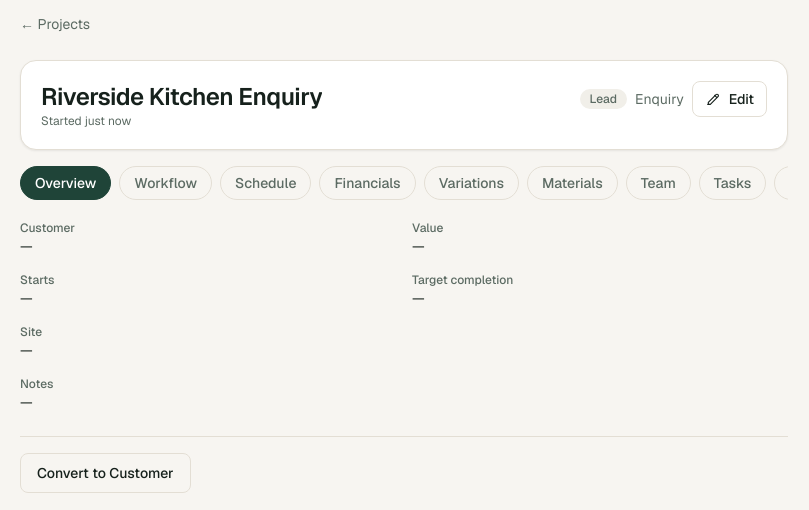
Test: ProjectDetailPage — site visit scheduling (Sprint 022) › lets_owner_or_staff_schedule_a_site_visit
The width and height of the screenshot is (809, 510).
Click the tab "Schedule" at (266, 183), box [220,166,312,200]
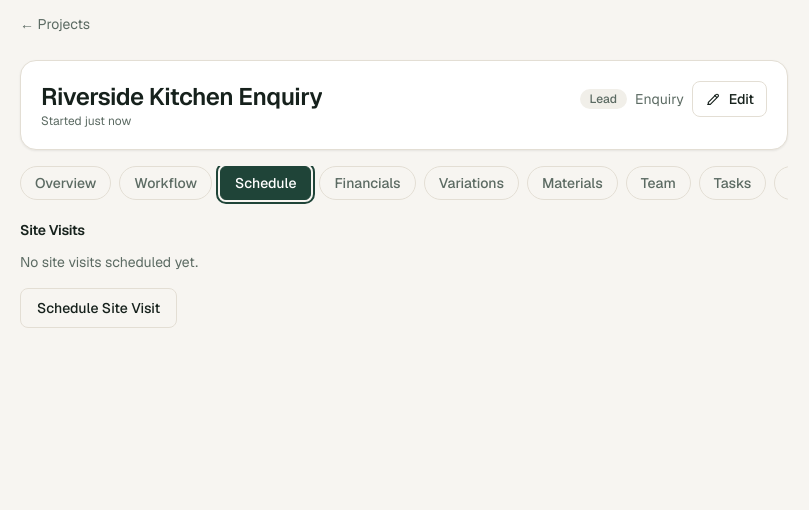
Click the button "Schedule Site Visit" at (99, 308), box [20,288,177,328]
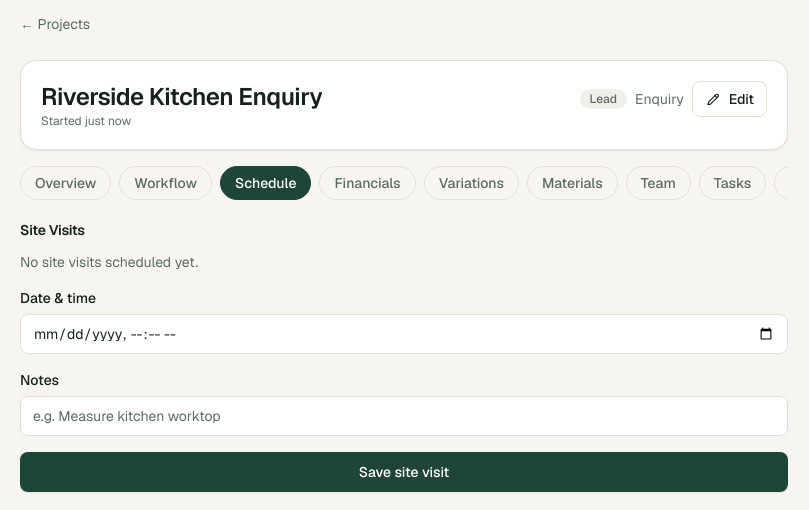
Type "2030-01-01T10:00" into the field labelled "Date & time" at (404, 334), box [20,314,788,354]
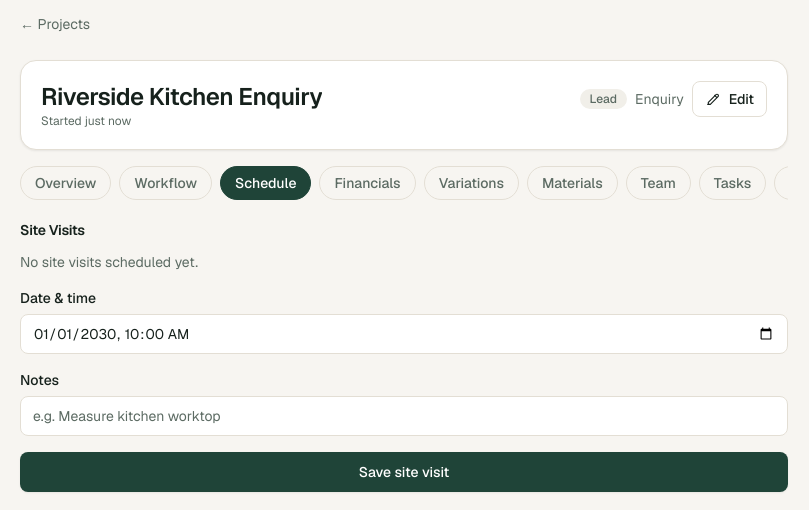
Type "Measure kitchen worktop" into the field labelled "Notes" at (404, 416), box [20,396,788,436]
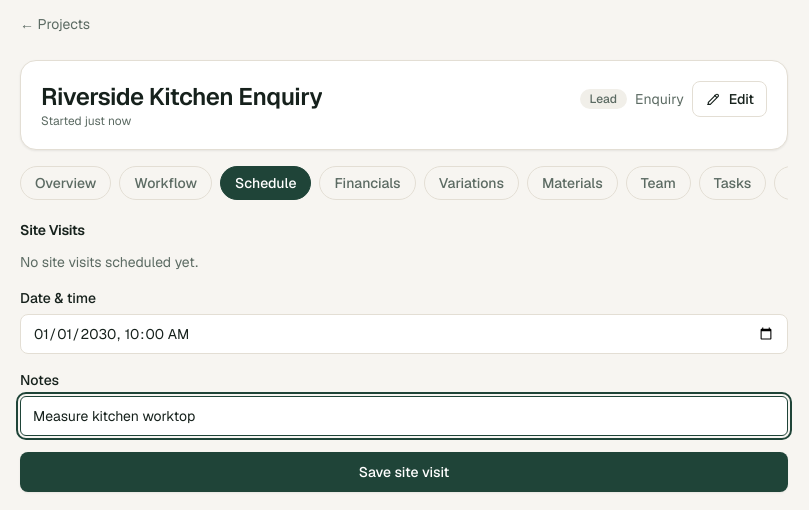
Click the button "Save site visit" at (404, 472), box [20,452,788,492]
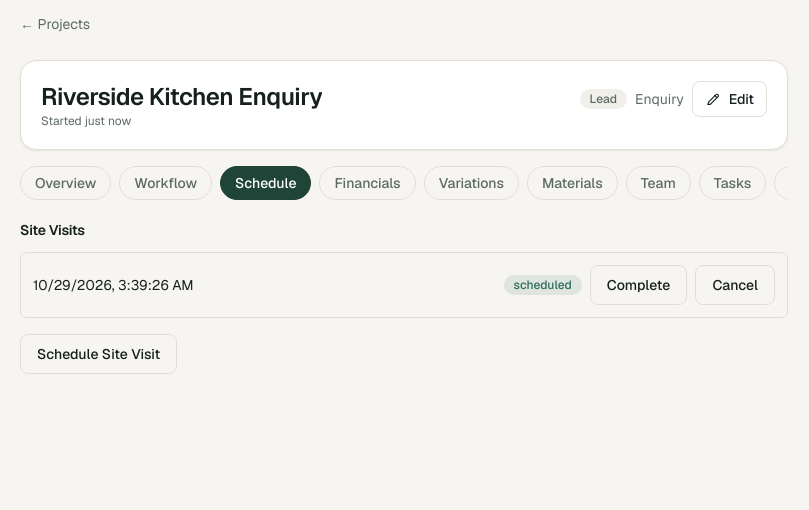
Now the text "scheduled" is shown, box [504,275,582,295]
Now the button "Schedule Site Visit" is shown, box [20,334,177,374]
